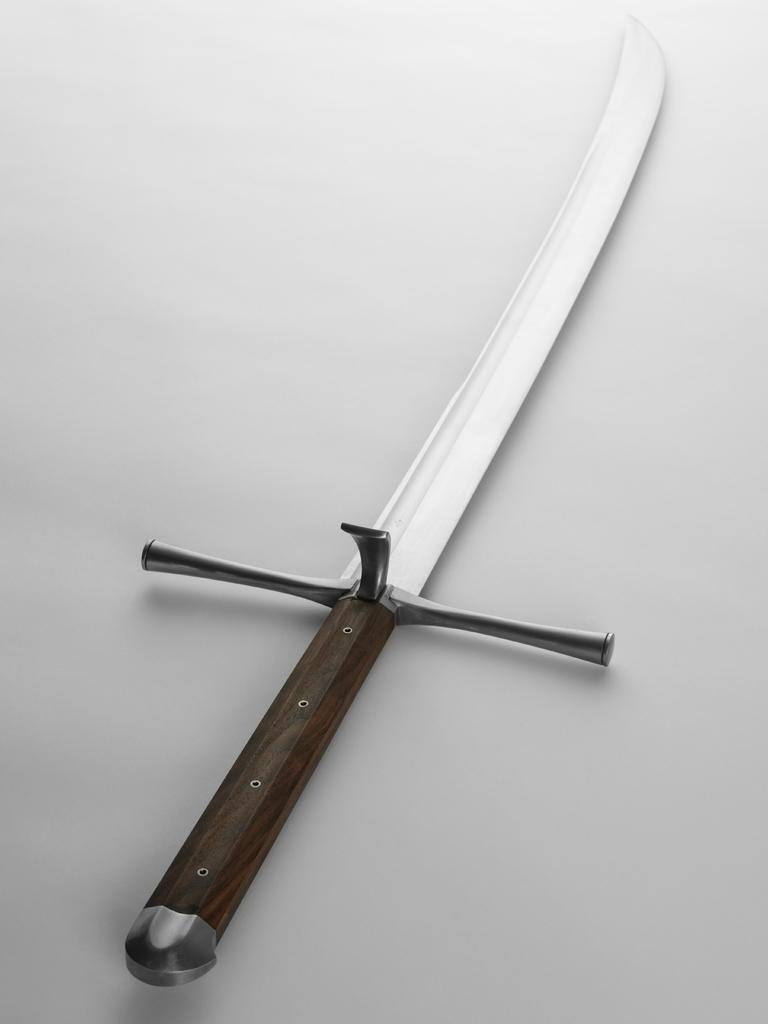Sword: (102, 9, 641, 980)
